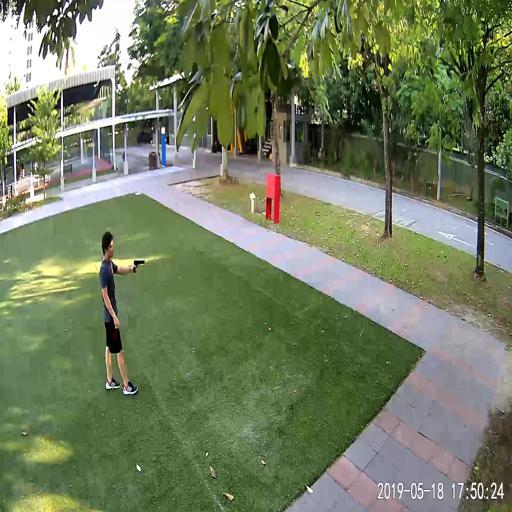Handgun: (132, 257, 144, 272)
